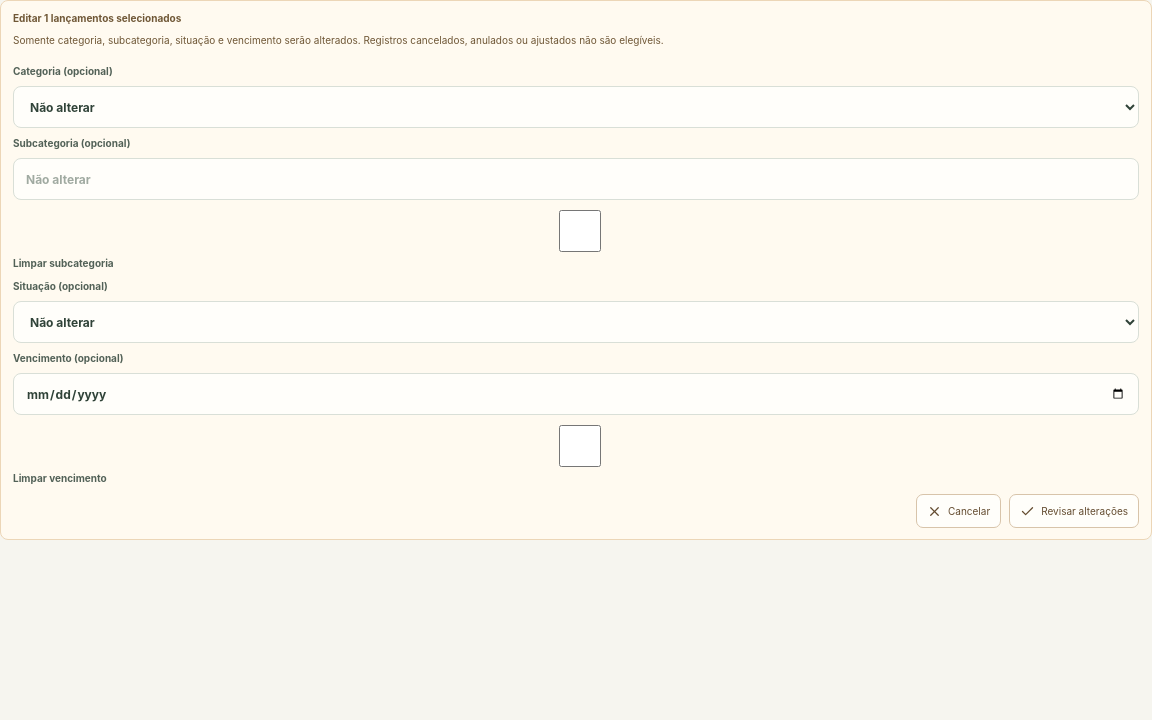
Test: RNF06 — auditoria automatizada de acessibilidade › fecha o editor em lote por Escape sem criar armadilha de foco
The width and height of the screenshot is (1152, 720).
Select "Vendas" in the dropdown labelled "Categoria (opcional)" at (576, 107), box [13, 86, 1139, 128]
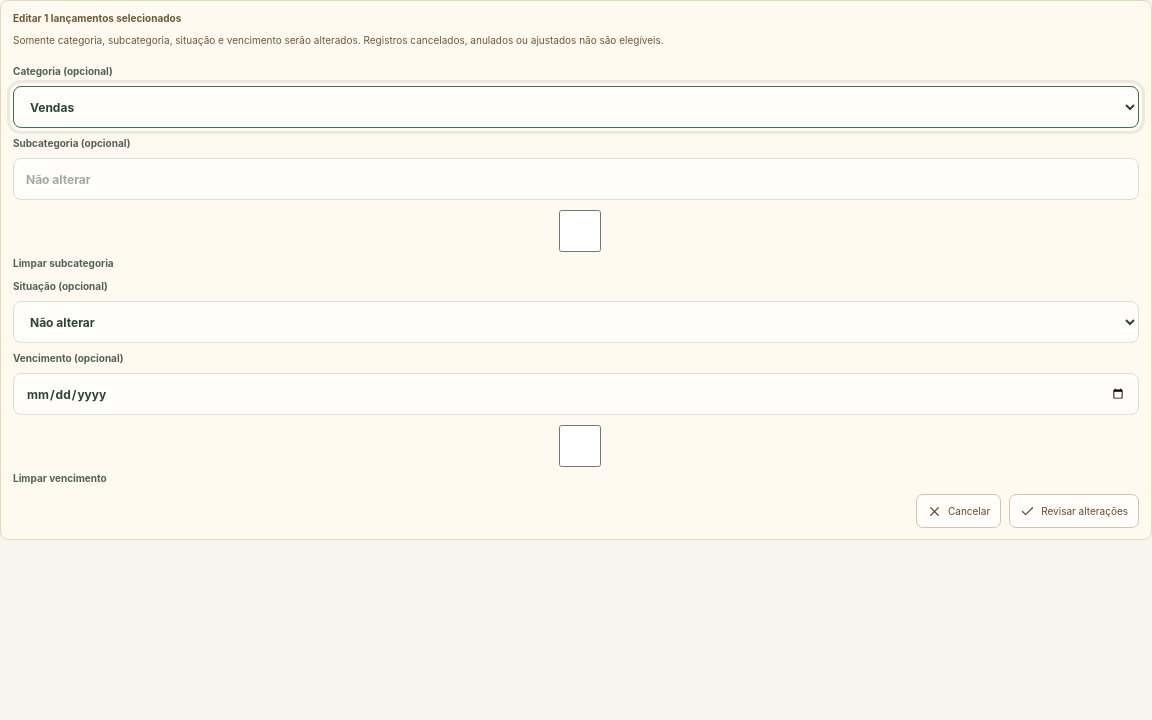
Click the button "Revisar alterações".
click(1074, 511)  # box [1009, 494, 1139, 528]
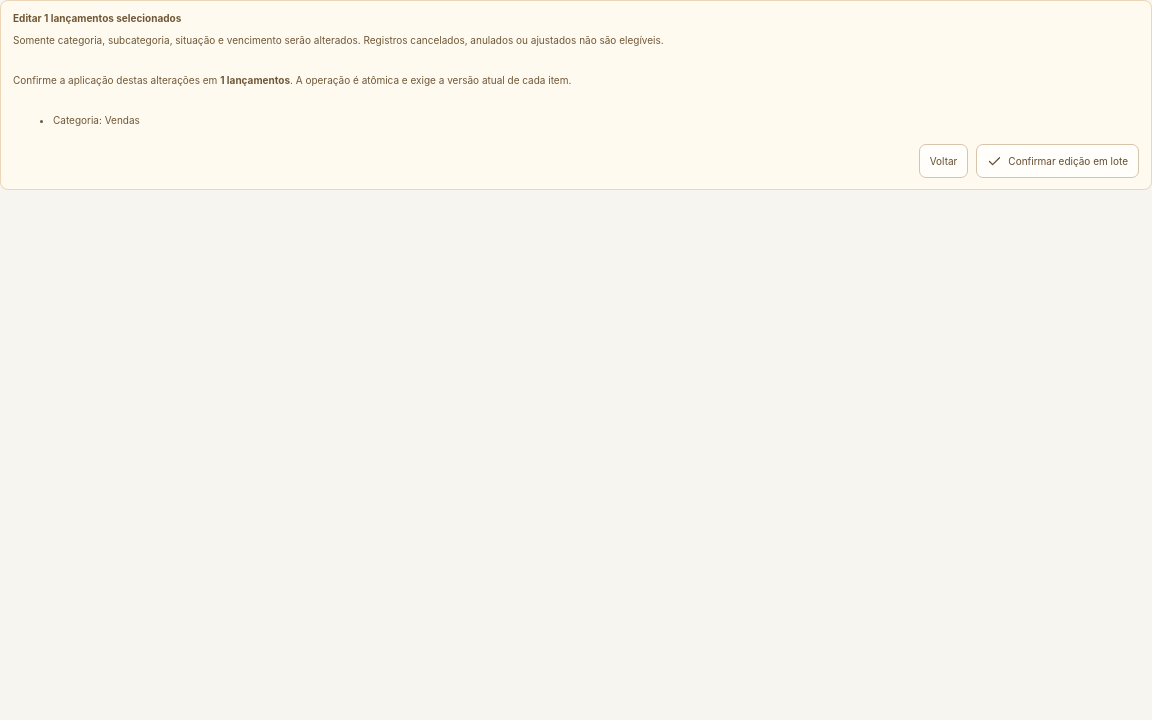
Result: the text "Confirme a aplicação" is shown at [13, 74, 220, 86]
Press Escape
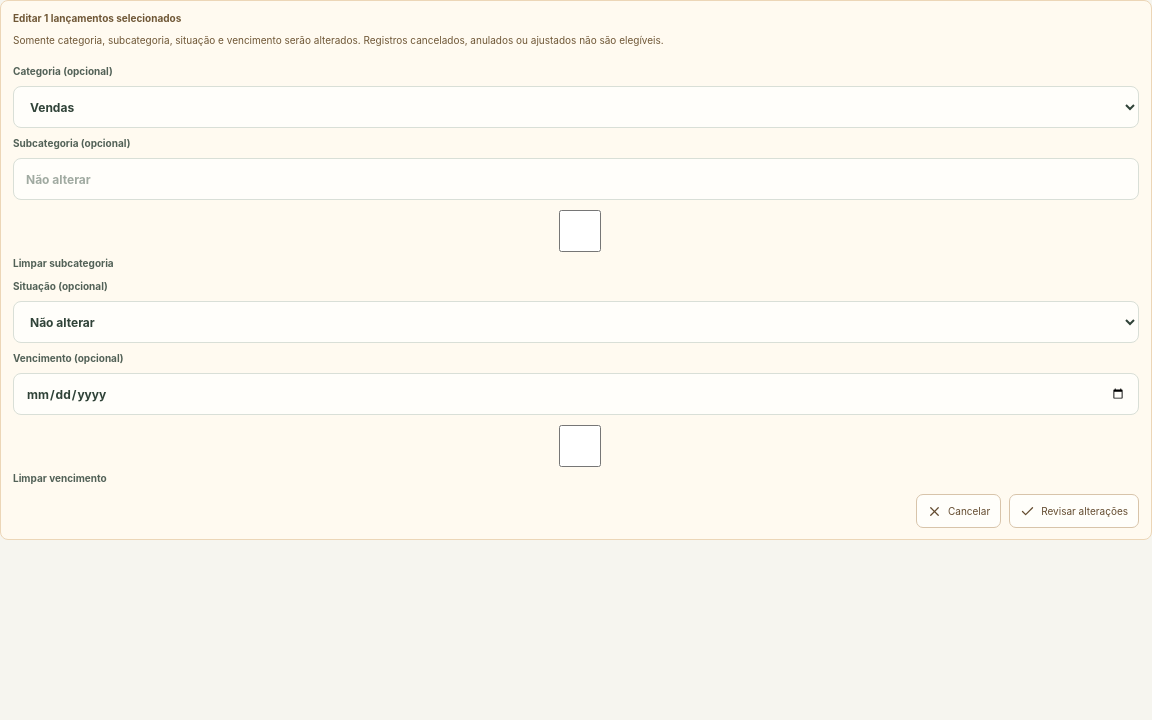
Result: the button "Revisar alterações" is shown at [1009, 494, 1139, 528]
